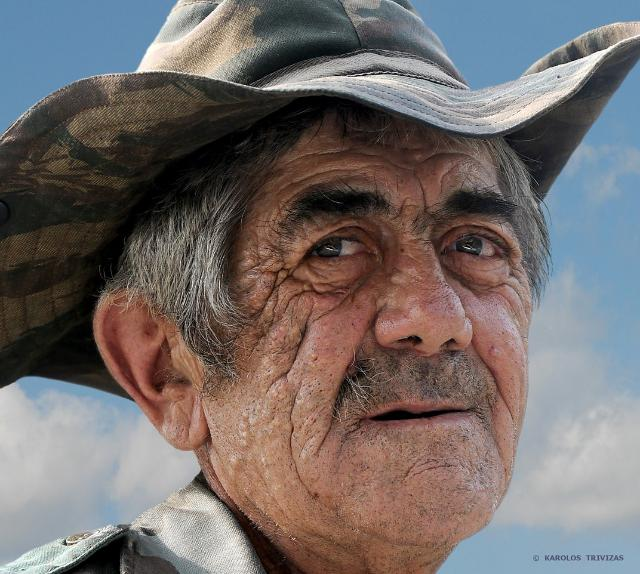chin: (401, 456, 447, 478)
crows_feet: (256, 256, 298, 300), (501, 259, 531, 297)
forehead: (304, 143, 378, 169), (428, 144, 490, 170)
frown_line: (410, 180, 434, 214)
gummy_smile: (478, 357, 516, 405)
masseter: (275, 419, 317, 476), (282, 317, 324, 373)
